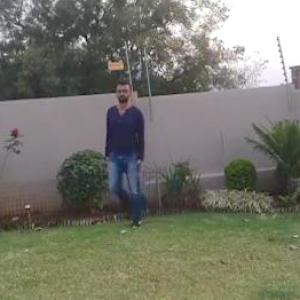follow: (103, 80, 153, 237)
